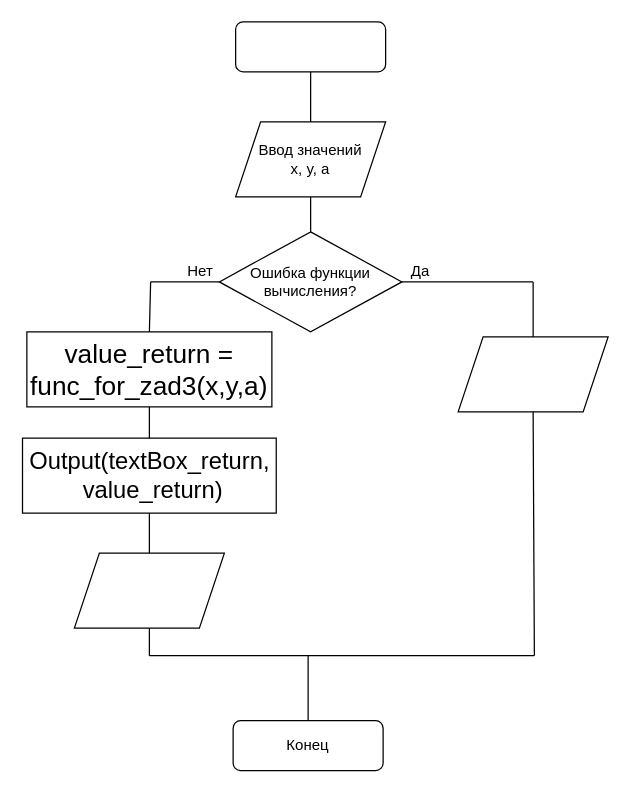
This 630x793 diagram has some shape labels left out. Here are the shapes that lost their labels. From the top down, the box of each, then its label:
(234, 21, 386, 72): Button
(457, 336, 608, 412): Вывод сообщения об ошибке
(73, 552, 224, 628): Вывод результата в файл
